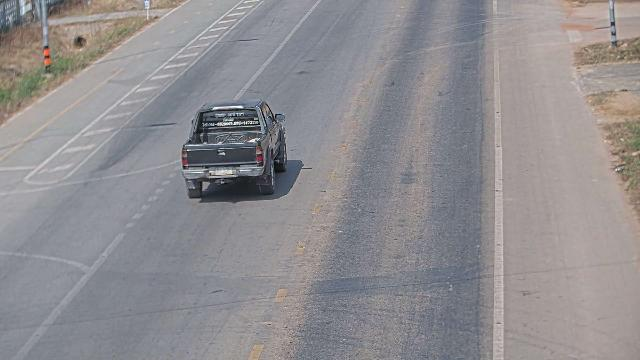pickup-truck: (180, 98, 288, 199)
